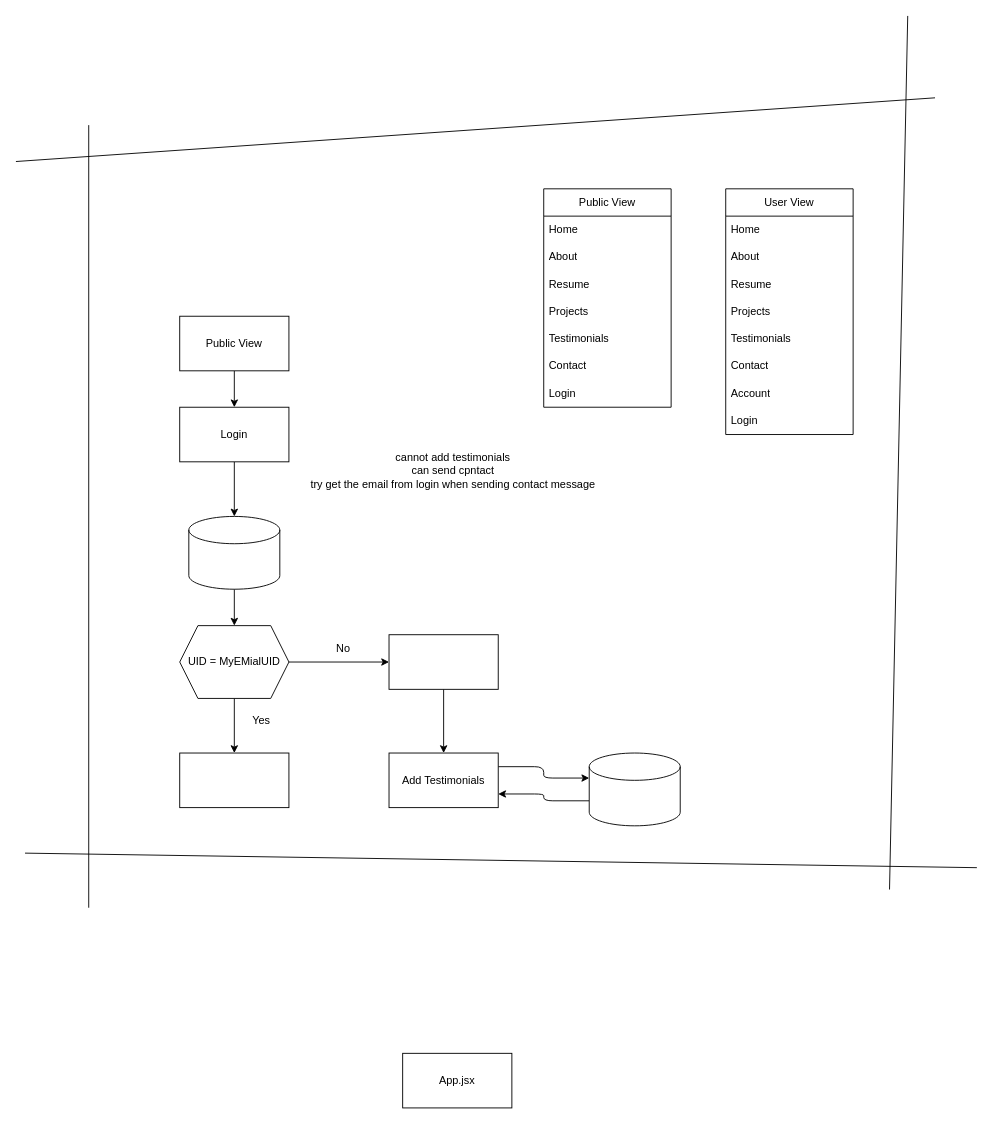
The diagram is 994 pixels wide and 1124 high, and some of its shapes have lost their labels. The centre of each missing label's shape, as x and y in pixels:
Admin View: pixel 234 780
firebase: pixel 634 789
firebase auth: pixel 234 552
public user view: pixel 443 661
